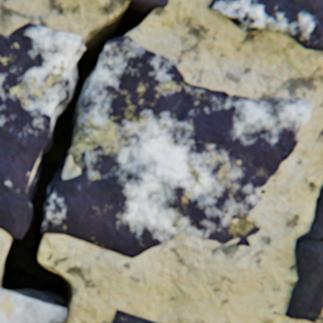brick: (208, 0, 322, 52), (284, 240, 322, 322), (0, 288, 66, 322), (295, 183, 322, 242), (111, 309, 156, 322), (125, 0, 168, 10)
broken_brick: (40, 37, 310, 258), (0, 24, 84, 238)
crack: (0, 1, 152, 322), (294, 238, 322, 247)
